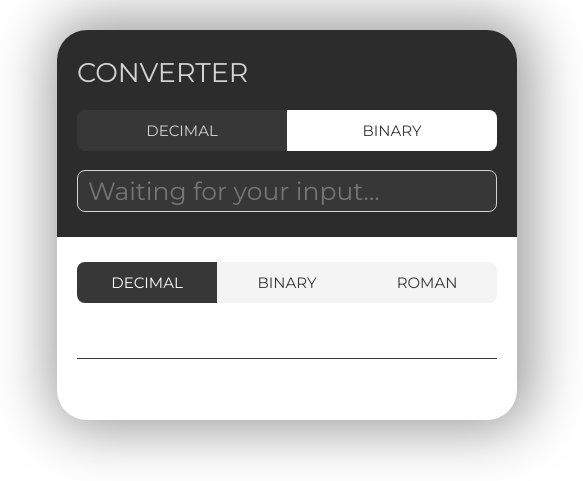
Test: Convert: › From decimal to roman
The width and height of the screenshot is (583, 481).
Click the button "decimal" below "Converter" at (182, 130), box [77,110,287,151]
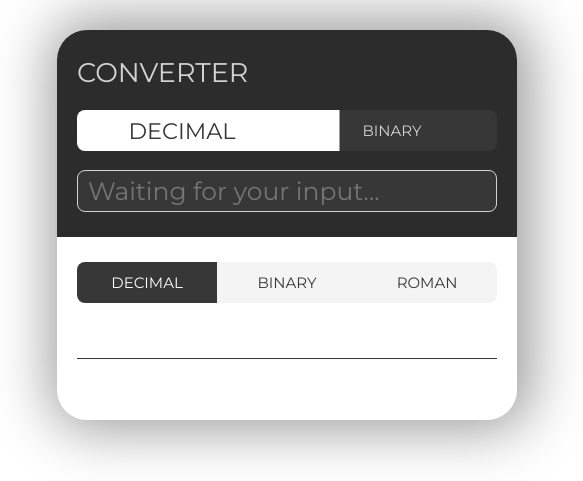
Type "10" into the number field with placeholder "Waiting for your input..." at (287, 191), box [77,170,497,212]
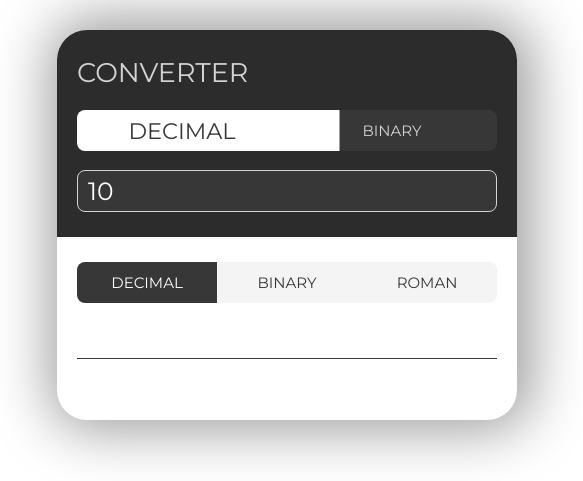
Click the button "roman" at (427, 282), box [357,262,497,303]
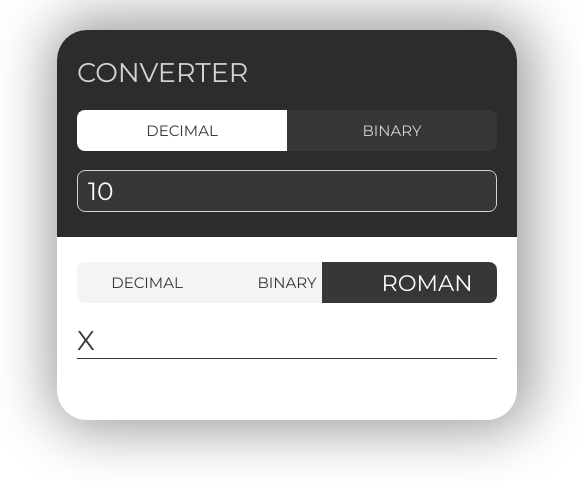
Check: the text "X" is shown, box [77,323,497,359]
